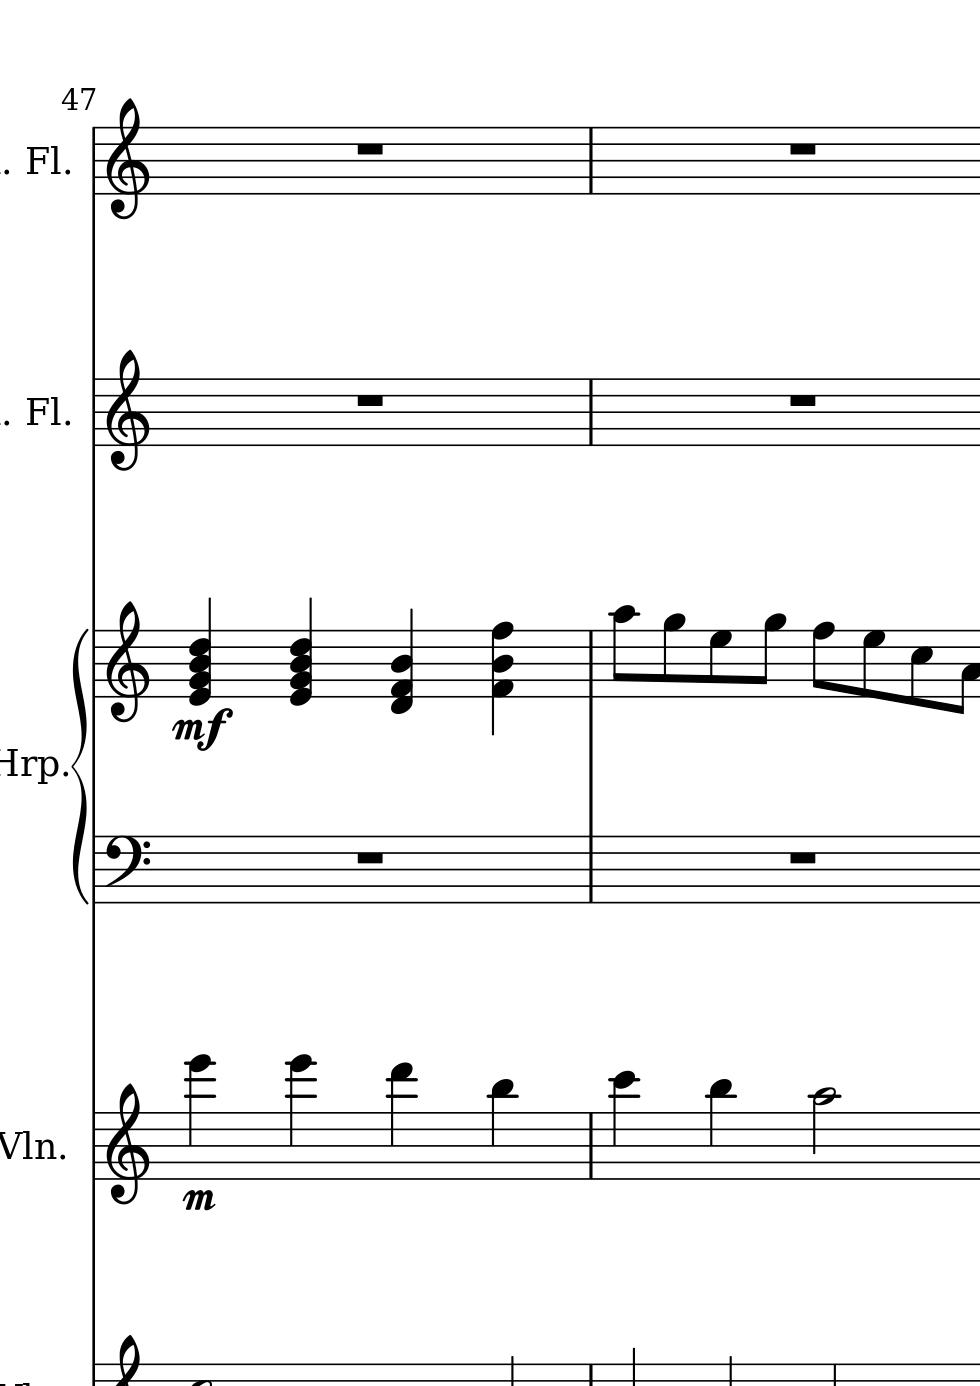2_10: (808, 1086, 839, 1182)
4: (62, 85, 78, 115)
4_11: (488, 1076, 517, 1182), (706, 1077, 734, 1182)
4_12: (609, 1069, 638, 1182)
4_13: (387, 1062, 415, 1185)
4_14: (182, 1053, 214, 1180), (285, 1054, 314, 1181)
4_4th: (286, 594, 316, 710), (487, 618, 515, 737), (387, 606, 417, 717)
7: (80, 85, 97, 115)
8_10: (610, 604, 638, 701)
8_3: (952, 627, 979, 716)
8_5: (907, 628, 933, 709)
8_7: (860, 629, 887, 702), (707, 628, 732, 700)
8_8: (810, 620, 836, 700)
8_9: (754, 612, 787, 700), (661, 612, 687, 700)
Brace: (69, 622, 90, 903)
Fclef: (102, 834, 150, 903)
Fl: (22, 391, 63, 433), (22, 141, 62, 180)
Gclef: (102, 347, 153, 472), (103, 95, 152, 221), (103, 1081, 152, 1206), (103, 599, 150, 722)
Hrp: (1, 744, 62, 784)
Rests1: (351, 137, 388, 159), (784, 138, 820, 159), (352, 389, 388, 410), (785, 846, 820, 867), (784, 390, 820, 410), (352, 847, 388, 867)
Single_barline: (582, 631, 600, 697), (582, 1113, 600, 1179), (582, 379, 599, 446), (582, 128, 599, 195), (582, 837, 599, 903), (86, 1113, 102, 1180), (87, 379, 102, 446), (87, 127, 101, 195), (88, 630, 102, 698), (88, 837, 102, 903)
Vln: (1, 1124, 57, 1166)
m: (179, 1186, 217, 1214)
mf: (171, 707, 234, 753)
